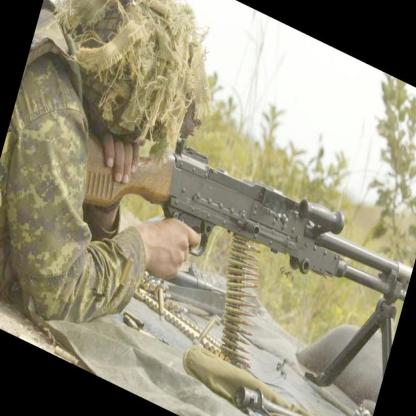rifle: (82, 95, 416, 351)
